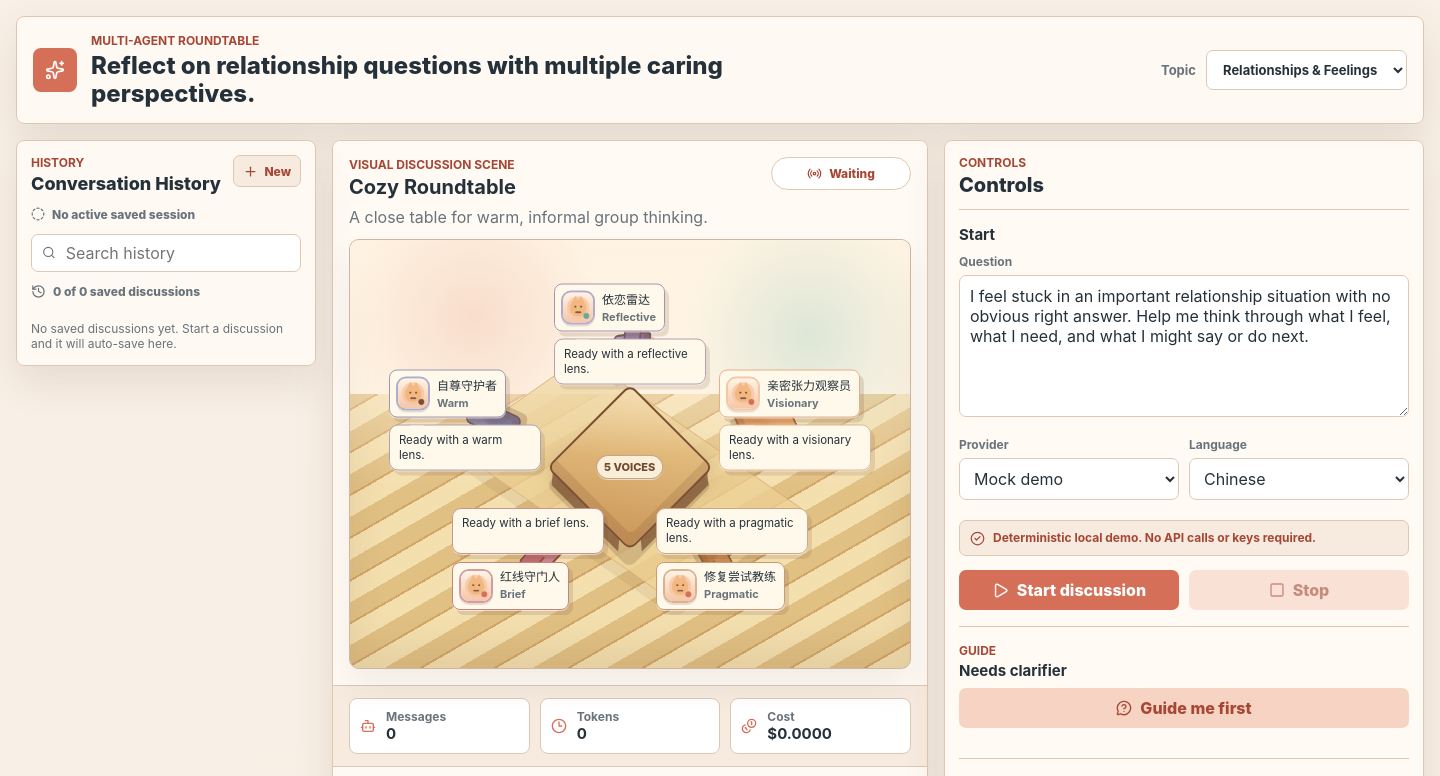
App › searches and deletes saved discussions from the sidebar
Click the button "Start discussion": (1069, 590) x1=959 y1=570 x2=1179 y2=610
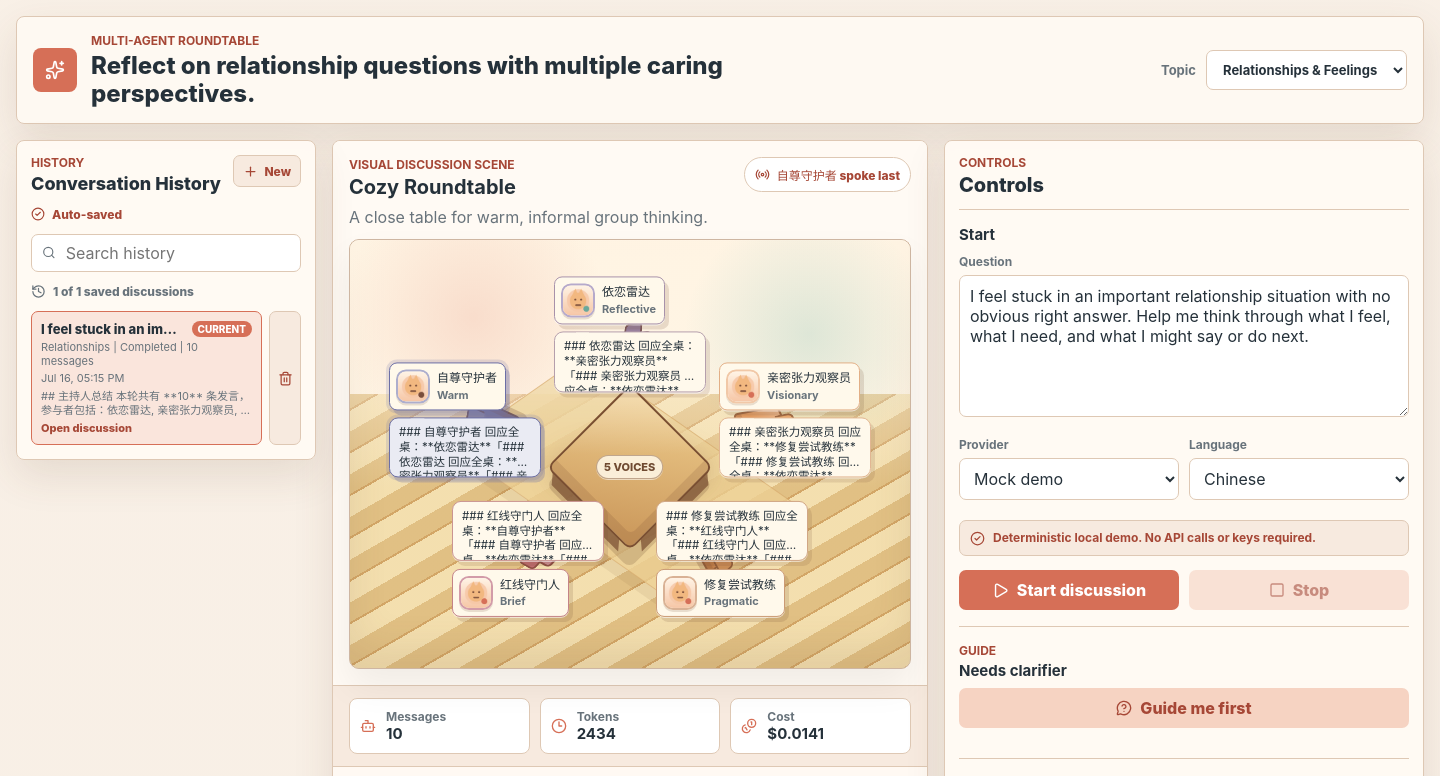
Expected: the text "1 of 1 saved discussions" is shown, x1=53 y1=284 x2=194 y2=299
In the search field named "Search conversation history": (177, 253) x1=64 y1=242 x2=290 y2=264, type "relationship"
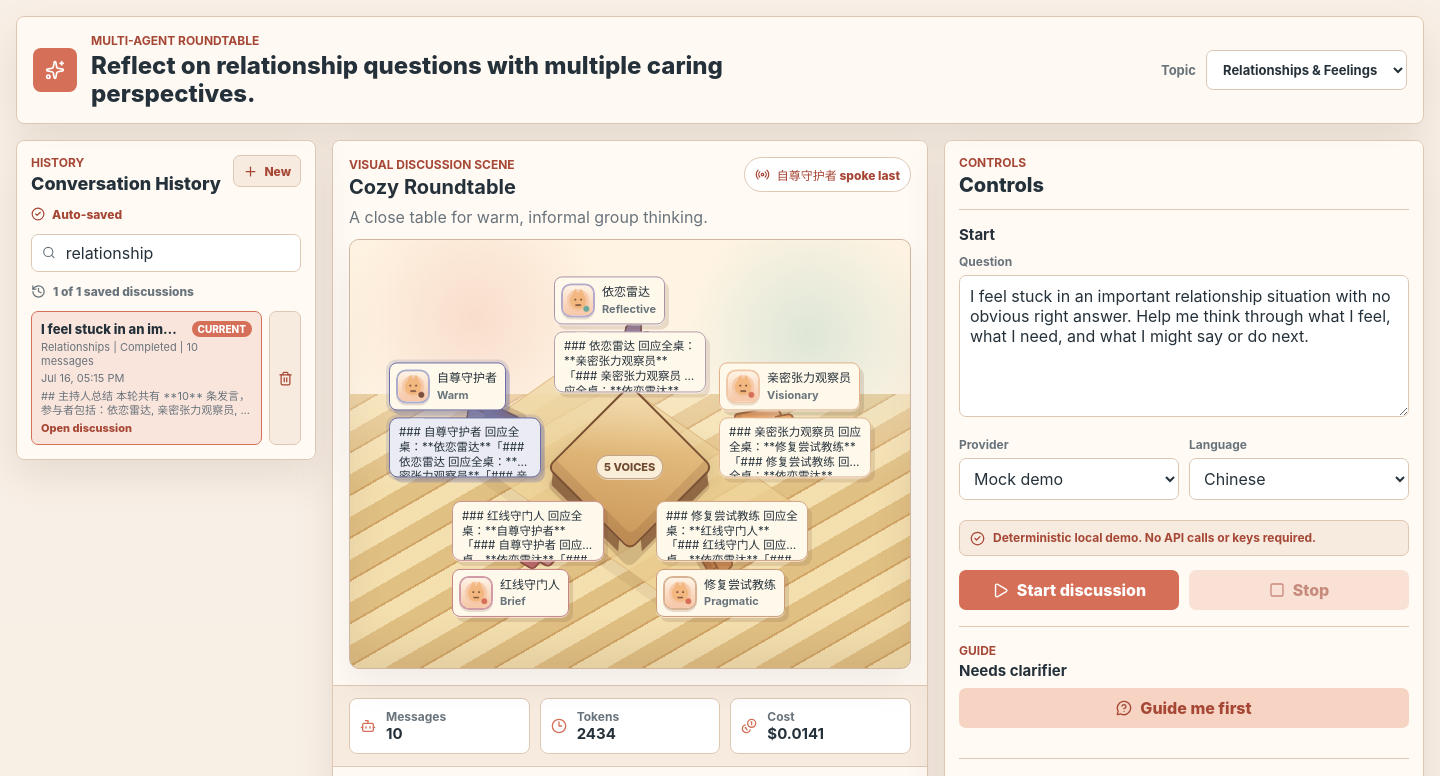
Expected: the number of buttons named "open " is 1, x1=31 y1=311 x2=262 y2=445
Replace the text in the search field named "Search conversation history" with "not-a-real-session": (177, 253) x1=64 y1=242 x2=290 y2=264
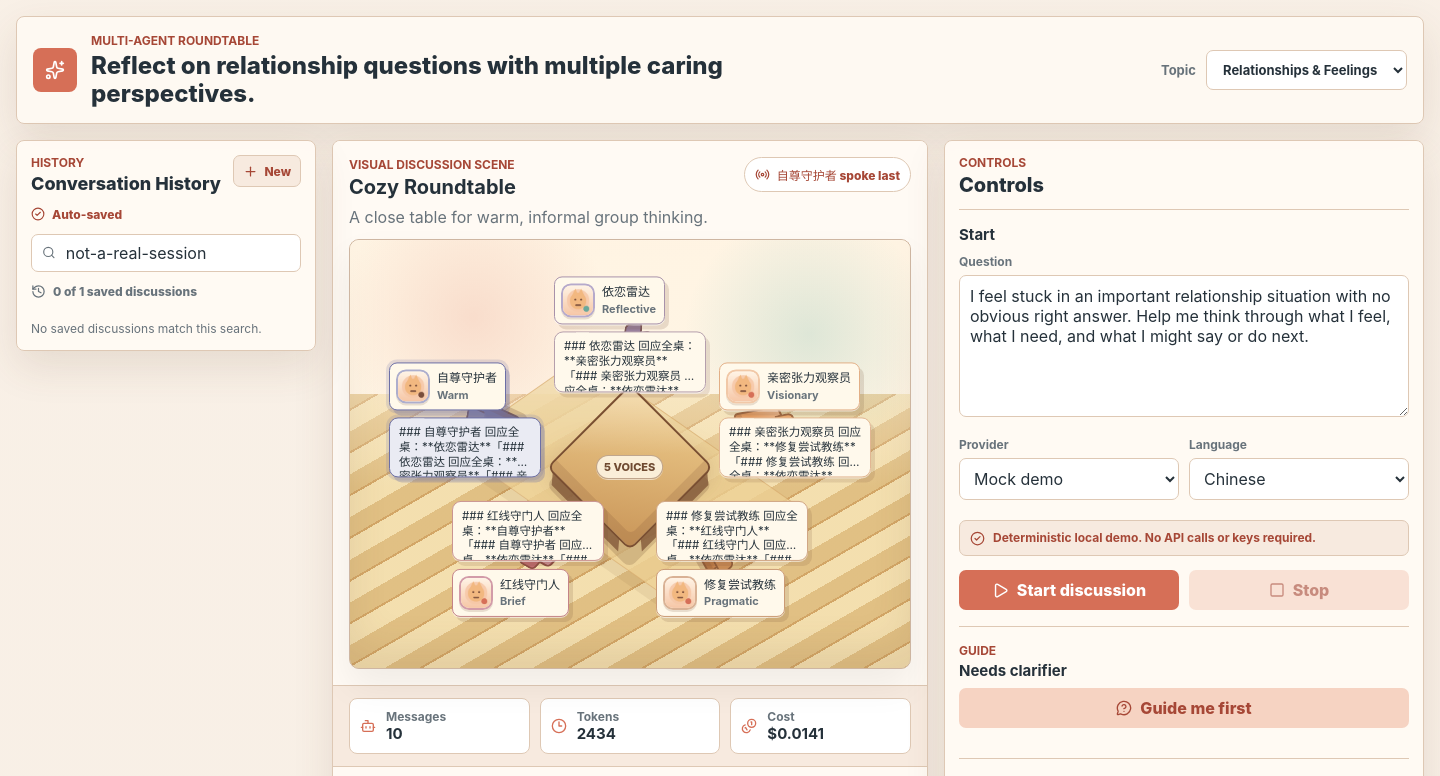
Expected: the text "No saved discussions match this search." is shown, x1=31 y1=321 x2=301 y2=336
Clear the search field named "Search conversation history": (177, 253) x1=64 y1=242 x2=290 y2=264
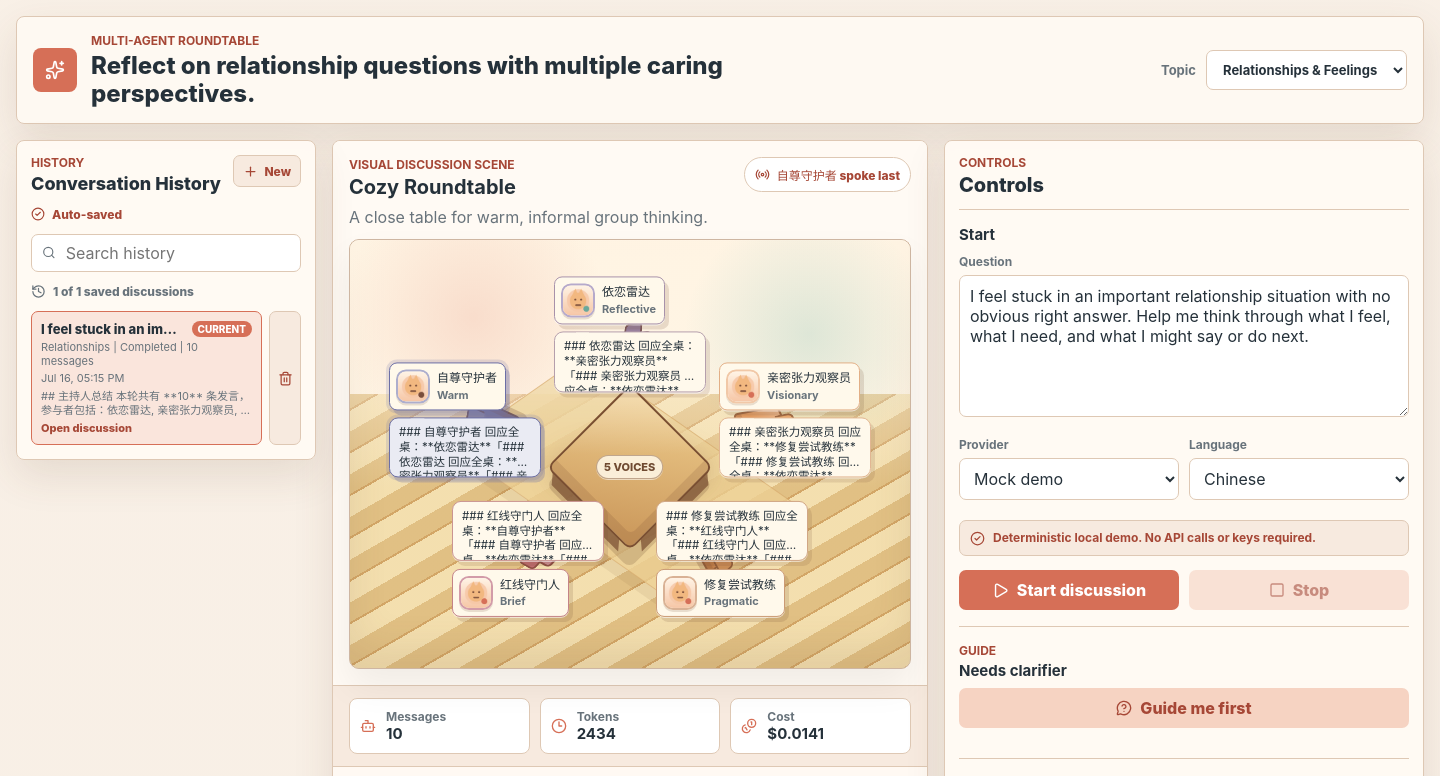
Click the button named "delete ": (285, 378) x1=269 y1=311 x2=301 y2=445
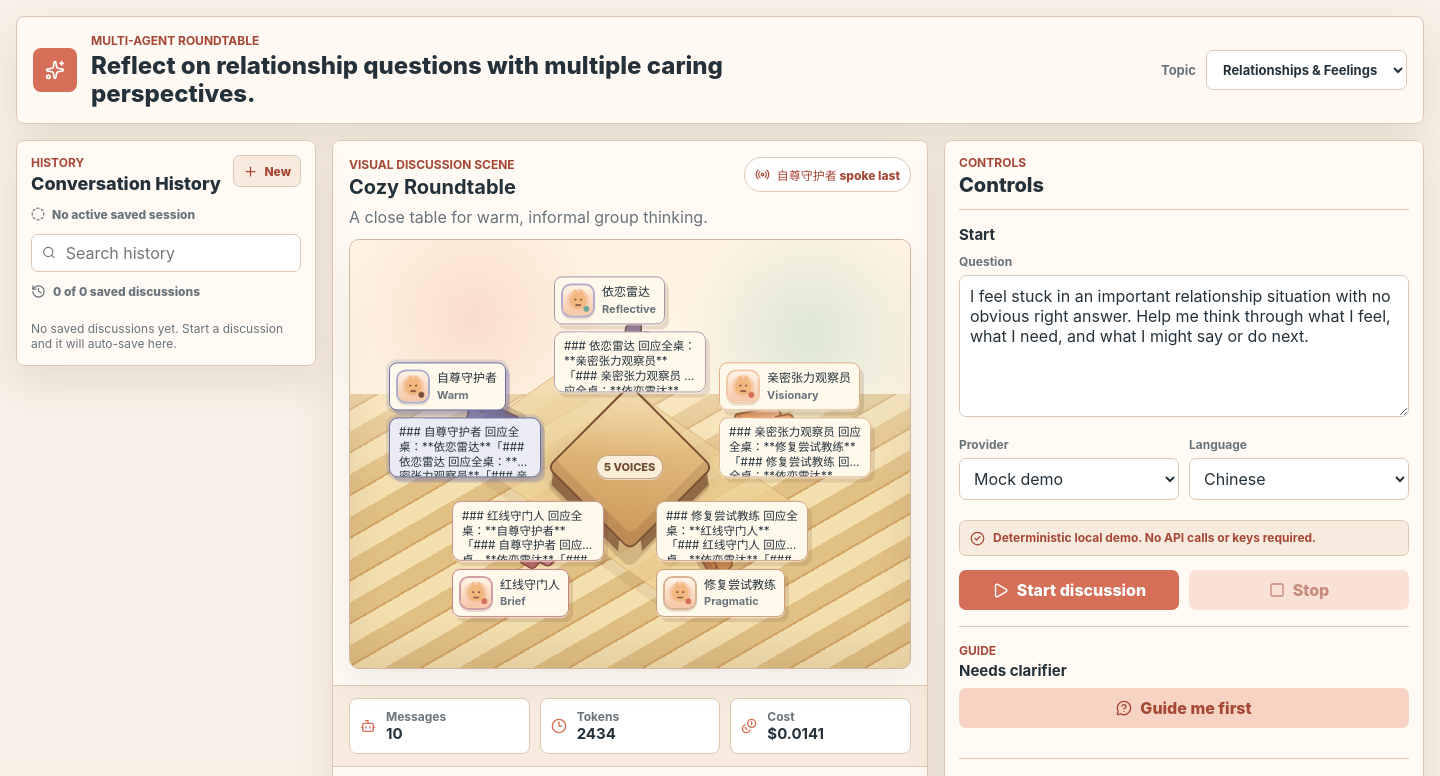
Expected: the text "0 of 0 saved discussions" is shown, x1=53 y1=284 x2=200 y2=299
